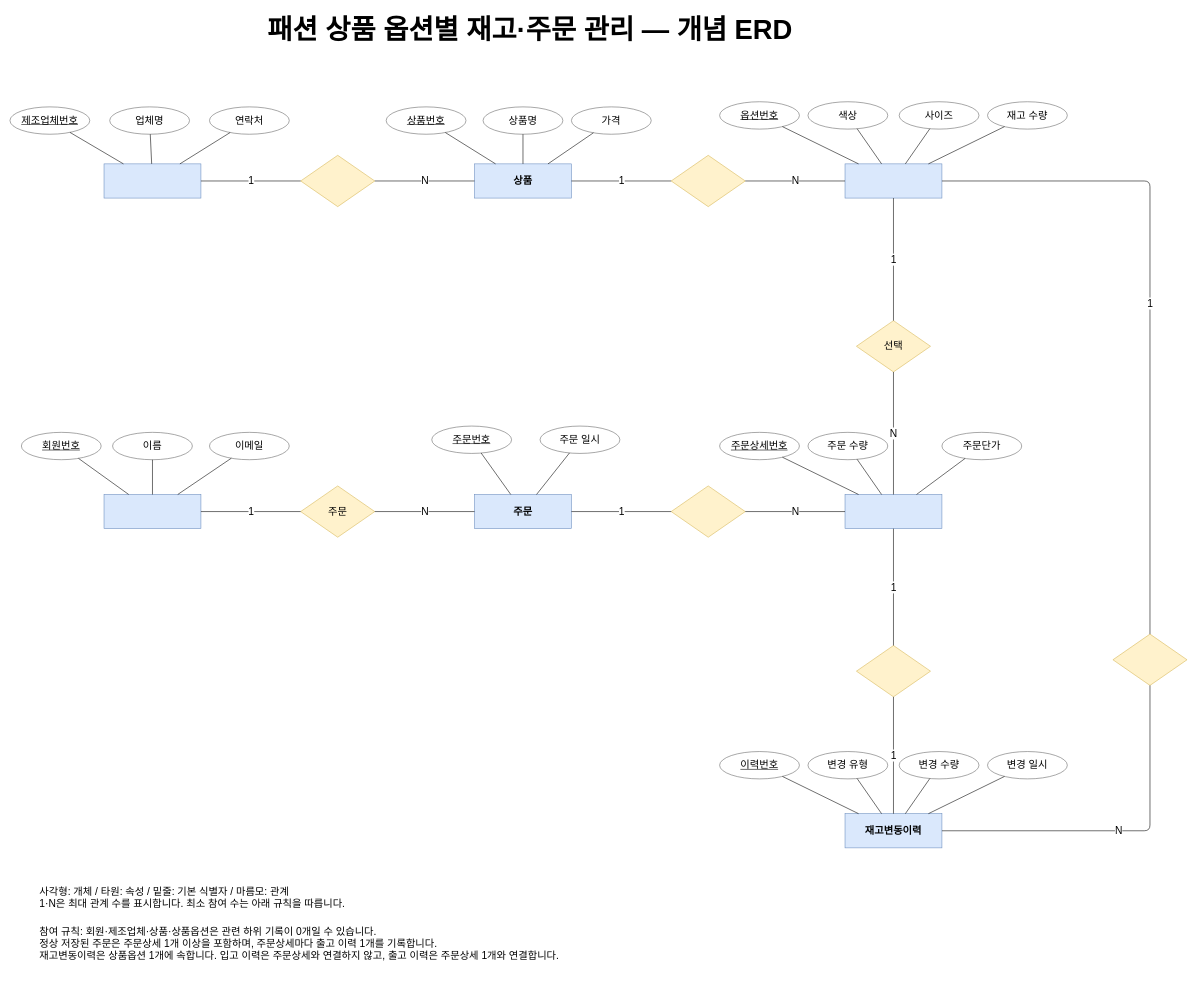
The diagram is 1197 pixels wide and 988 high, and some of its shapes have lost their labels. The shapes that lost their labels are listed below. From the top down, each one's box as (x1, y1, x2, y2) in pixels, then its label:
(103, 163, 201, 198): 제조업체
(300, 155, 375, 207): 생산
(671, 155, 745, 207): 구성
(844, 163, 942, 198): 상품옵션
(103, 494, 201, 529): 회원
(671, 485, 745, 537): 포함
(844, 494, 942, 529): 주문상세
(856, 645, 931, 697): 출고 기록
(1112, 634, 1187, 685): 발생
